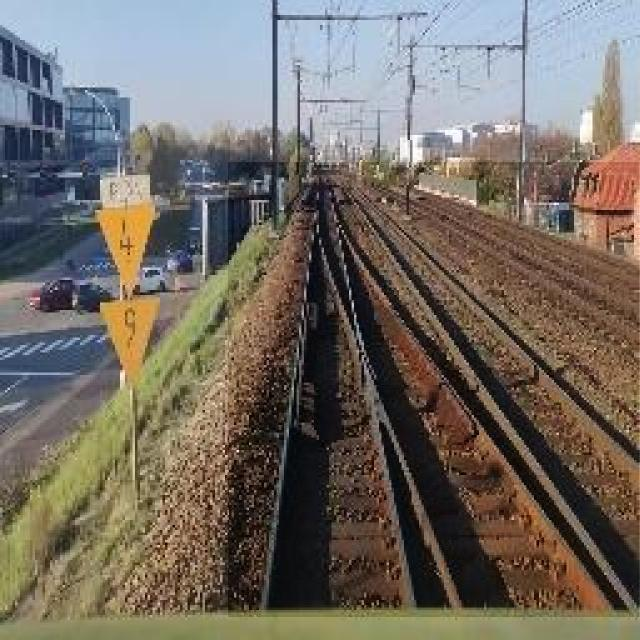rail: (230, 164, 640, 618)
